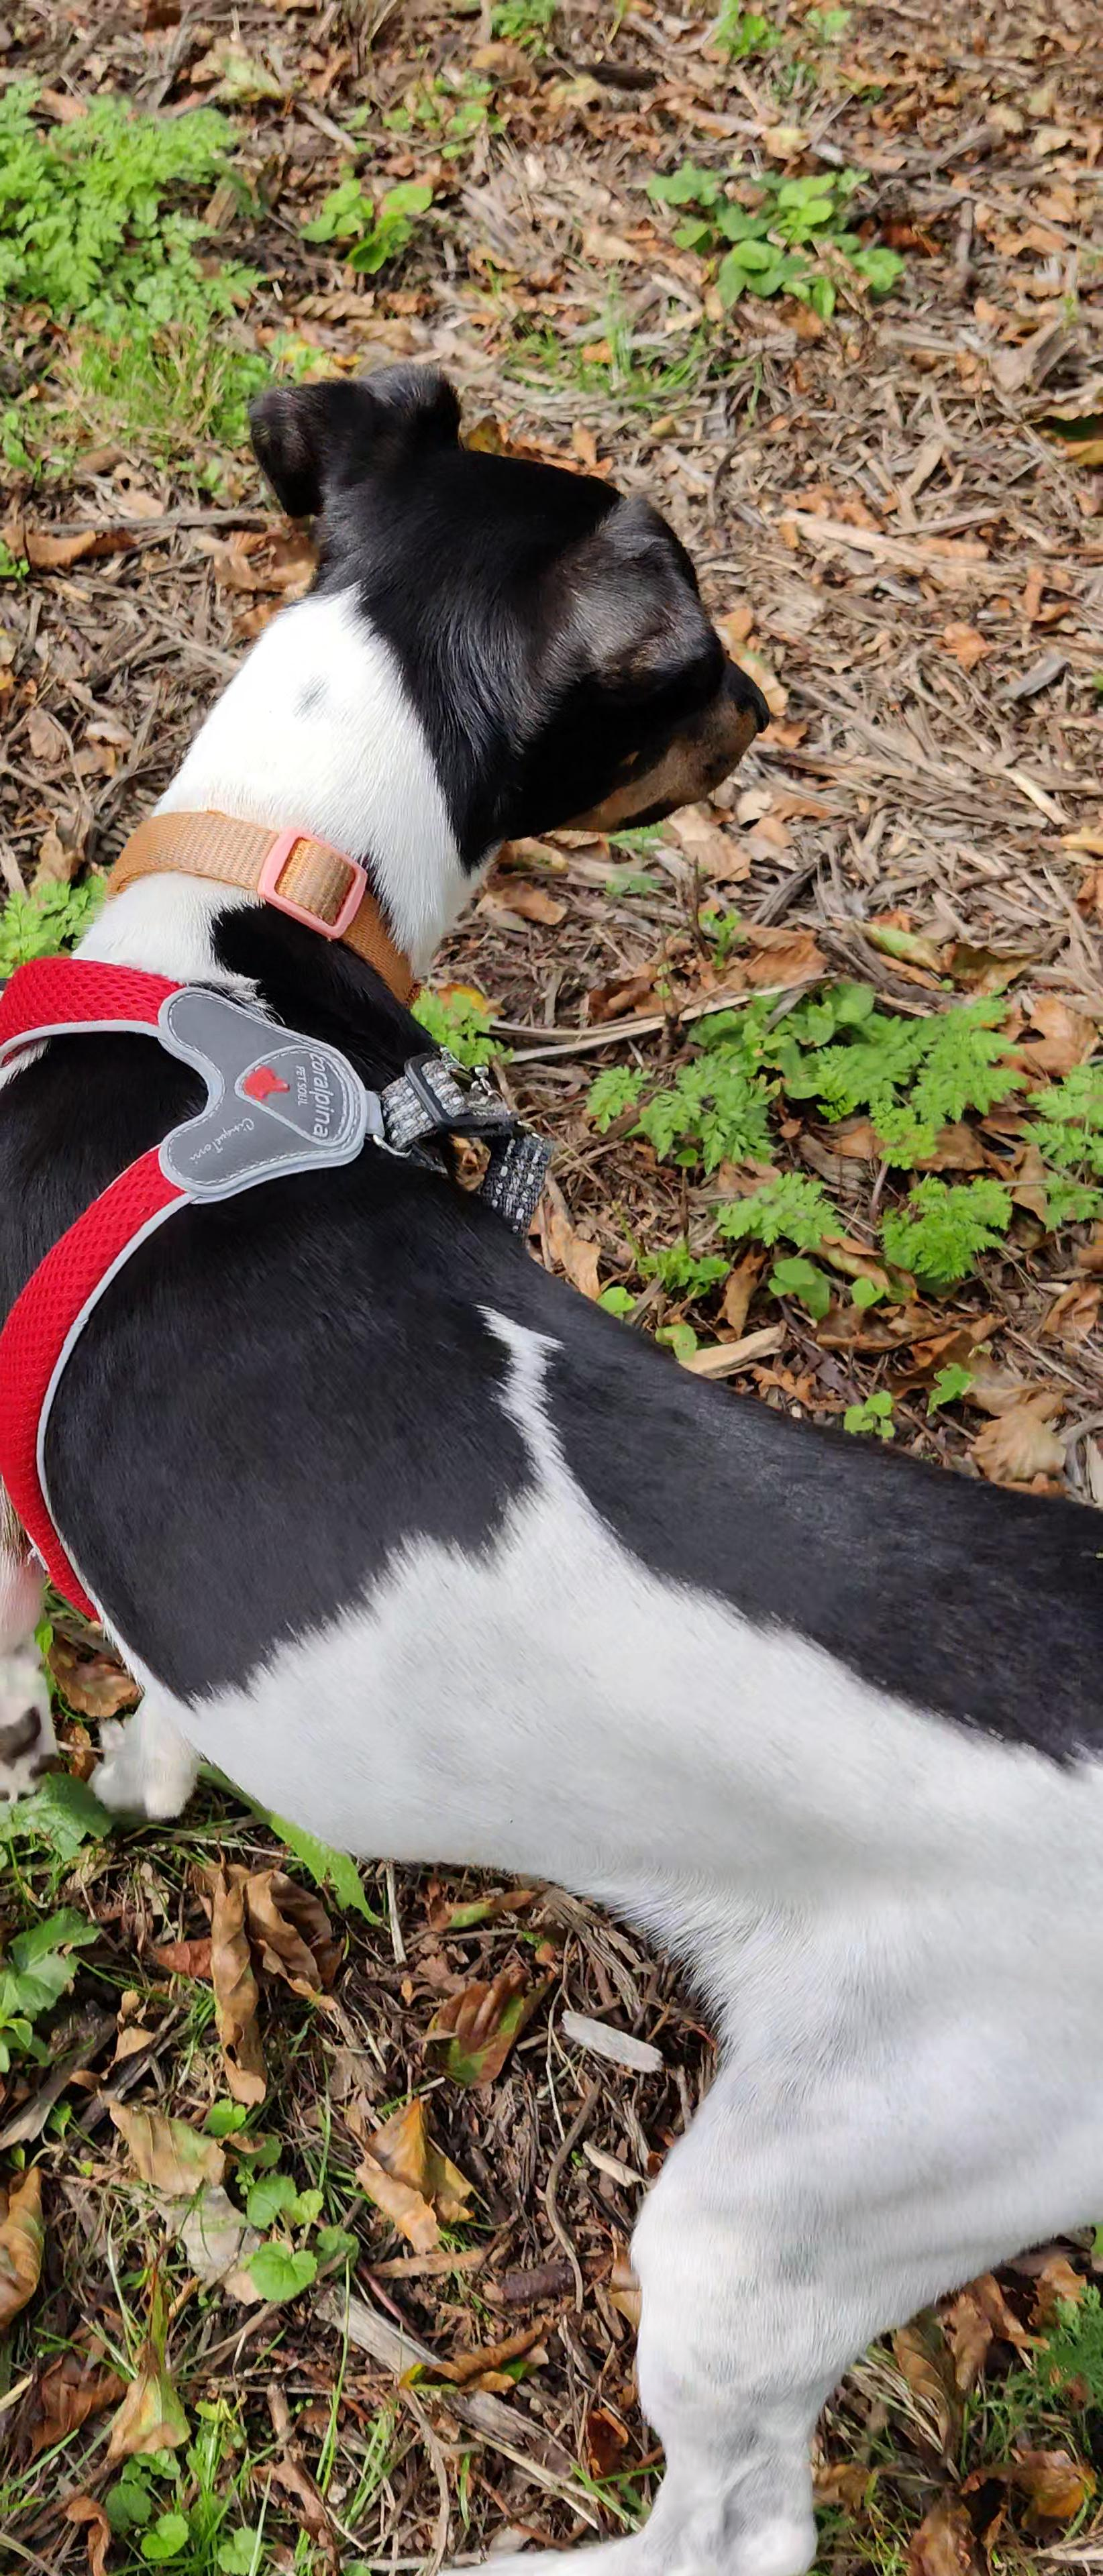Dog: (0, 333, 1103, 2576)
